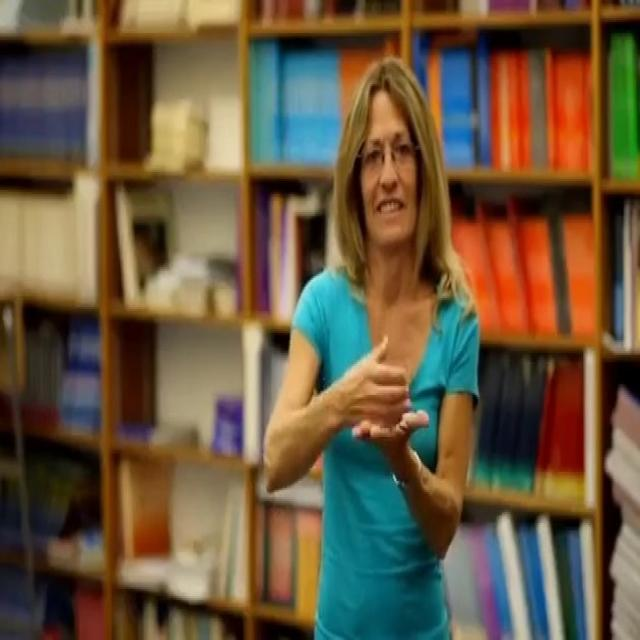cup: (337, 322, 438, 472)
